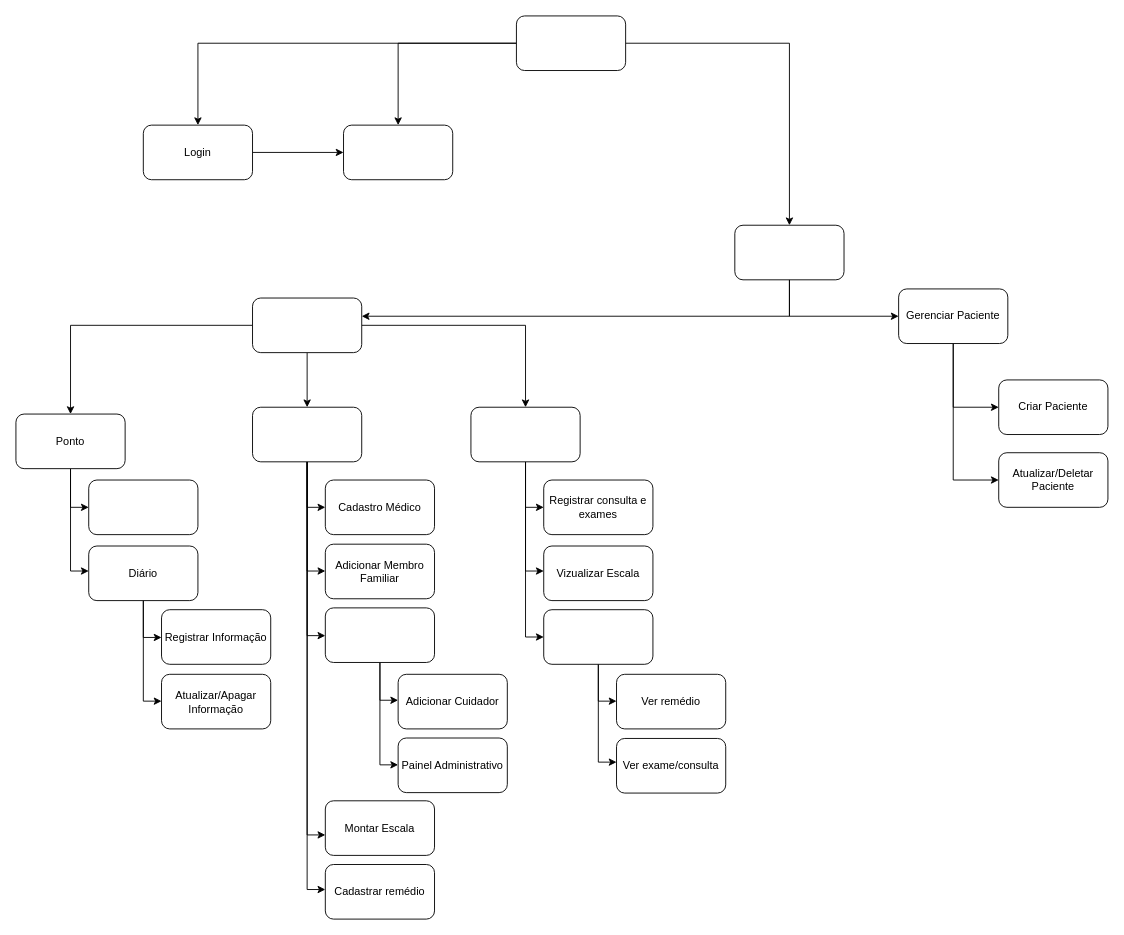
This 1124x935 diagram has some shape labels left out. Here are the shapes that lost their labels. From the top down, the centre of each, then its label:
(x=571, y=43): Home
(x=398, y=152): Cadastro
(x=789, y=252): Pacientes
(x=307, y=325): Paciente Atendendo
(x=307, y=434): Tela Gerencial
(x=525, y=434): Agenda
(x=143, y=507): Registrar Entrada/Saída
(x=379, y=634): Gerenciar Cuidador
(x=598, y=636): Vizualizar Dia
